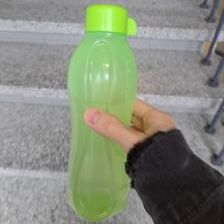bottle: (60, 2, 142, 219)
